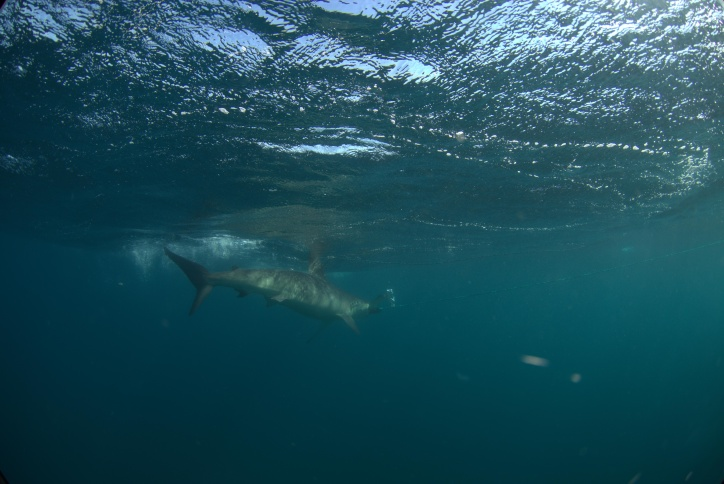Hammer: (131, 227, 415, 355)
